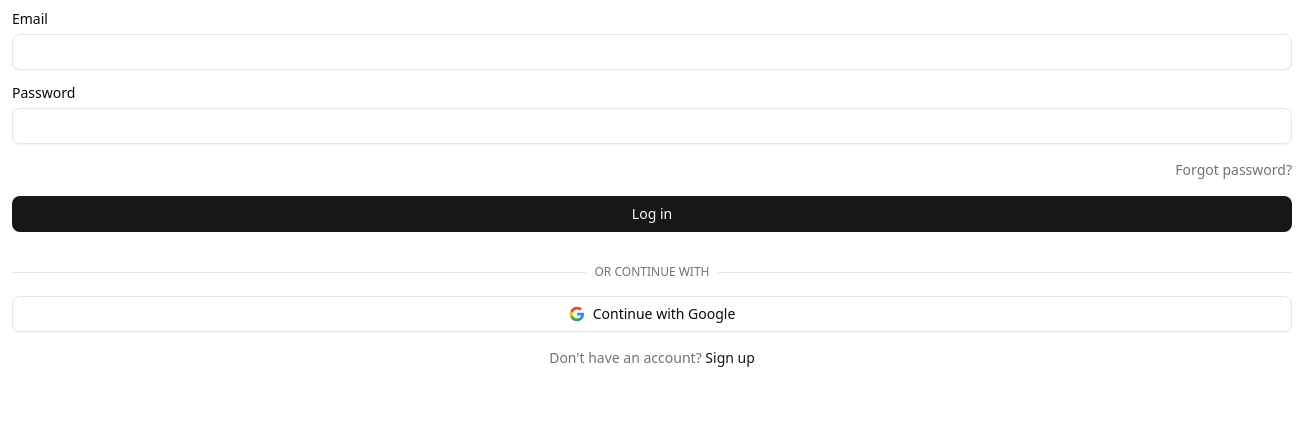
Scenario: LoginForm › displays API error message on login failure
Type "user@kpi.ua" into the field labelled "Email" at (652, 52), box [12,34,1292,70]
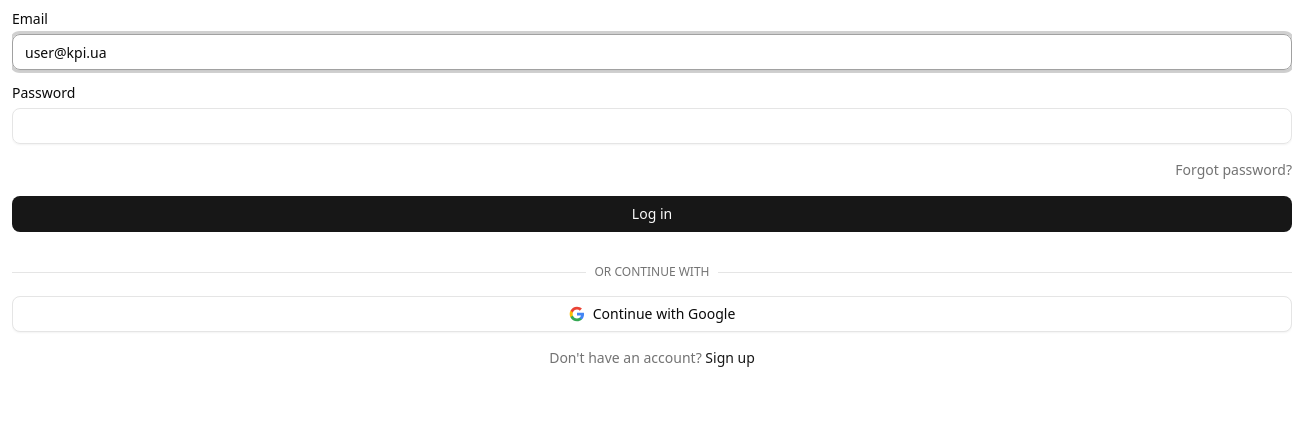
Type "wrong" into the password field labelled "Password" at (652, 126), box [12,108,1292,144]
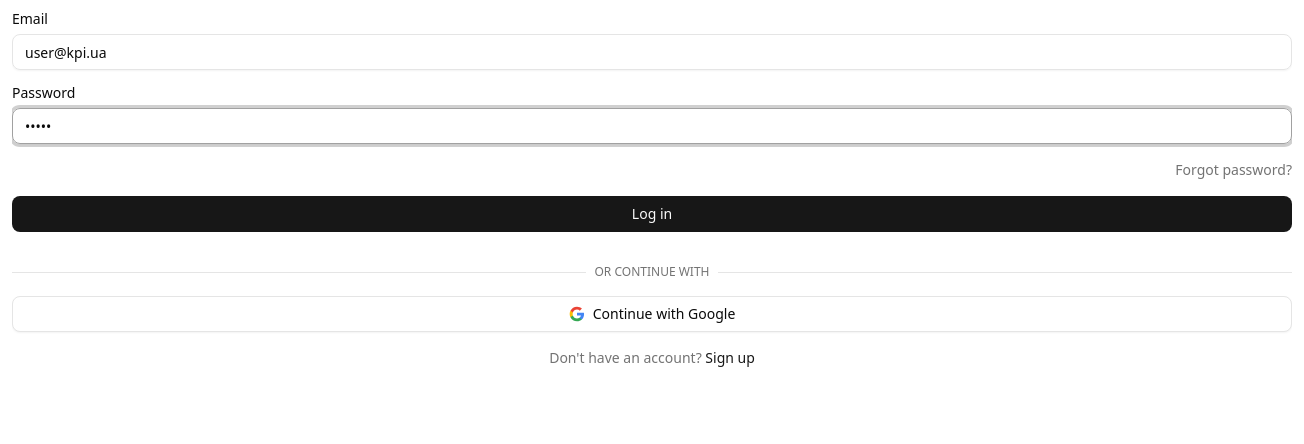
Click the button "Log in" at (652, 214), box [12,196,1292,232]
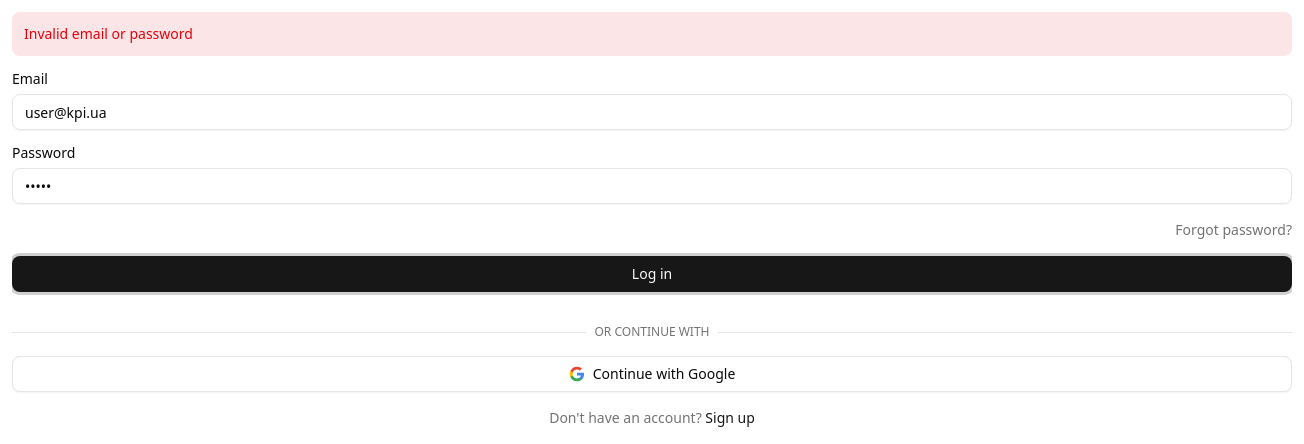
Now the message reads "Invalid email or password", box [24,24,193,43]
